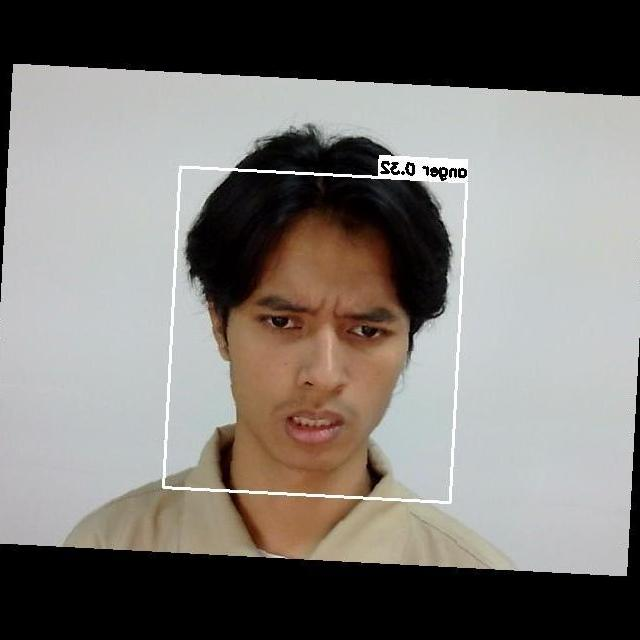Disgust: (222, 265, 413, 466)
